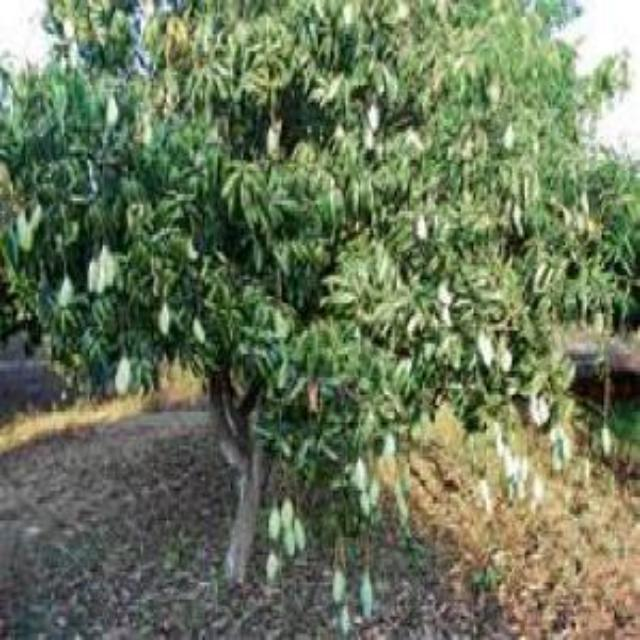tree: (4, 1, 618, 570)
